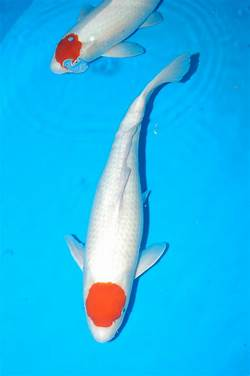sun: (64, 53, 193, 342), (48, 1, 166, 74)
